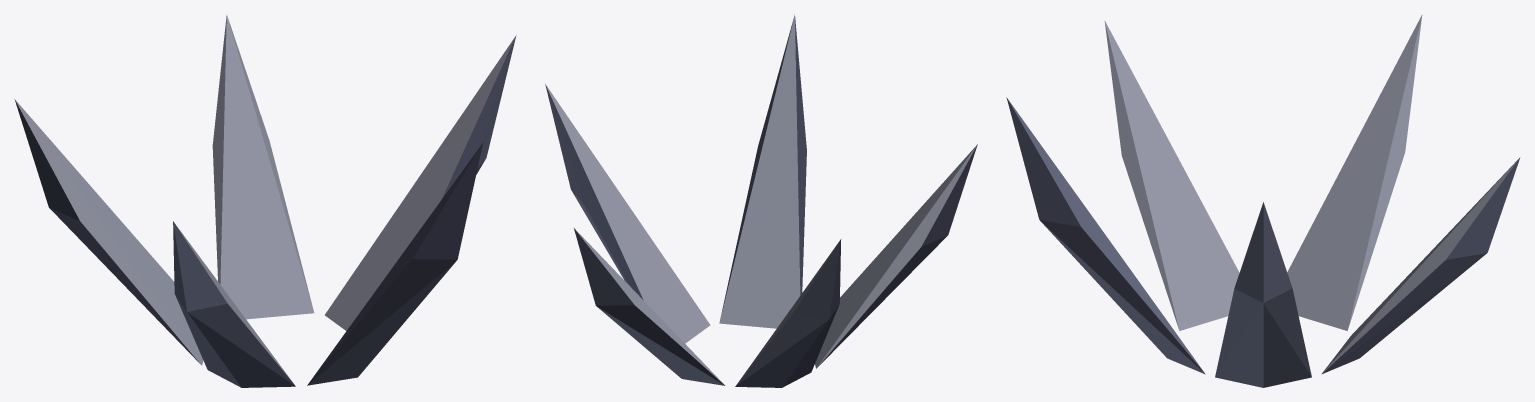
Rendered from TW_VEG_GRASS_LOW_A_LOD0.glb.
3 views of the same model, side by side, from view 1: azimuth 30°, elevation 25°; view 2: azimuth 150°, elevation 25°; view 3: azimuth 270°, elevation 25° (orthographic). The views are drawn at different scales.
Parts seen in each view (by area): view 1: TW_VEG_GRASS_LOW_A_LOD0; view 2: TW_VEG_GRASS_LOW_A_LOD0; view 3: TW_VEG_GRASS_LOW_A_LOD0.
Boxes of the visible parts, bbox=[...] form: TW_VEG_GRASS_LOW_A_LOD0: bbox=[14, 14, 516, 387]; TW_VEG_GRASS_LOW_A_LOD0: bbox=[545, 14, 977, 387]; TW_VEG_GRASS_LOW_A_LOD0: bbox=[1006, 15, 1520, 387].
Size of the model in its own units: 0.3528 by 0.2258 by 0.3709.
1 material, 1 textured.
